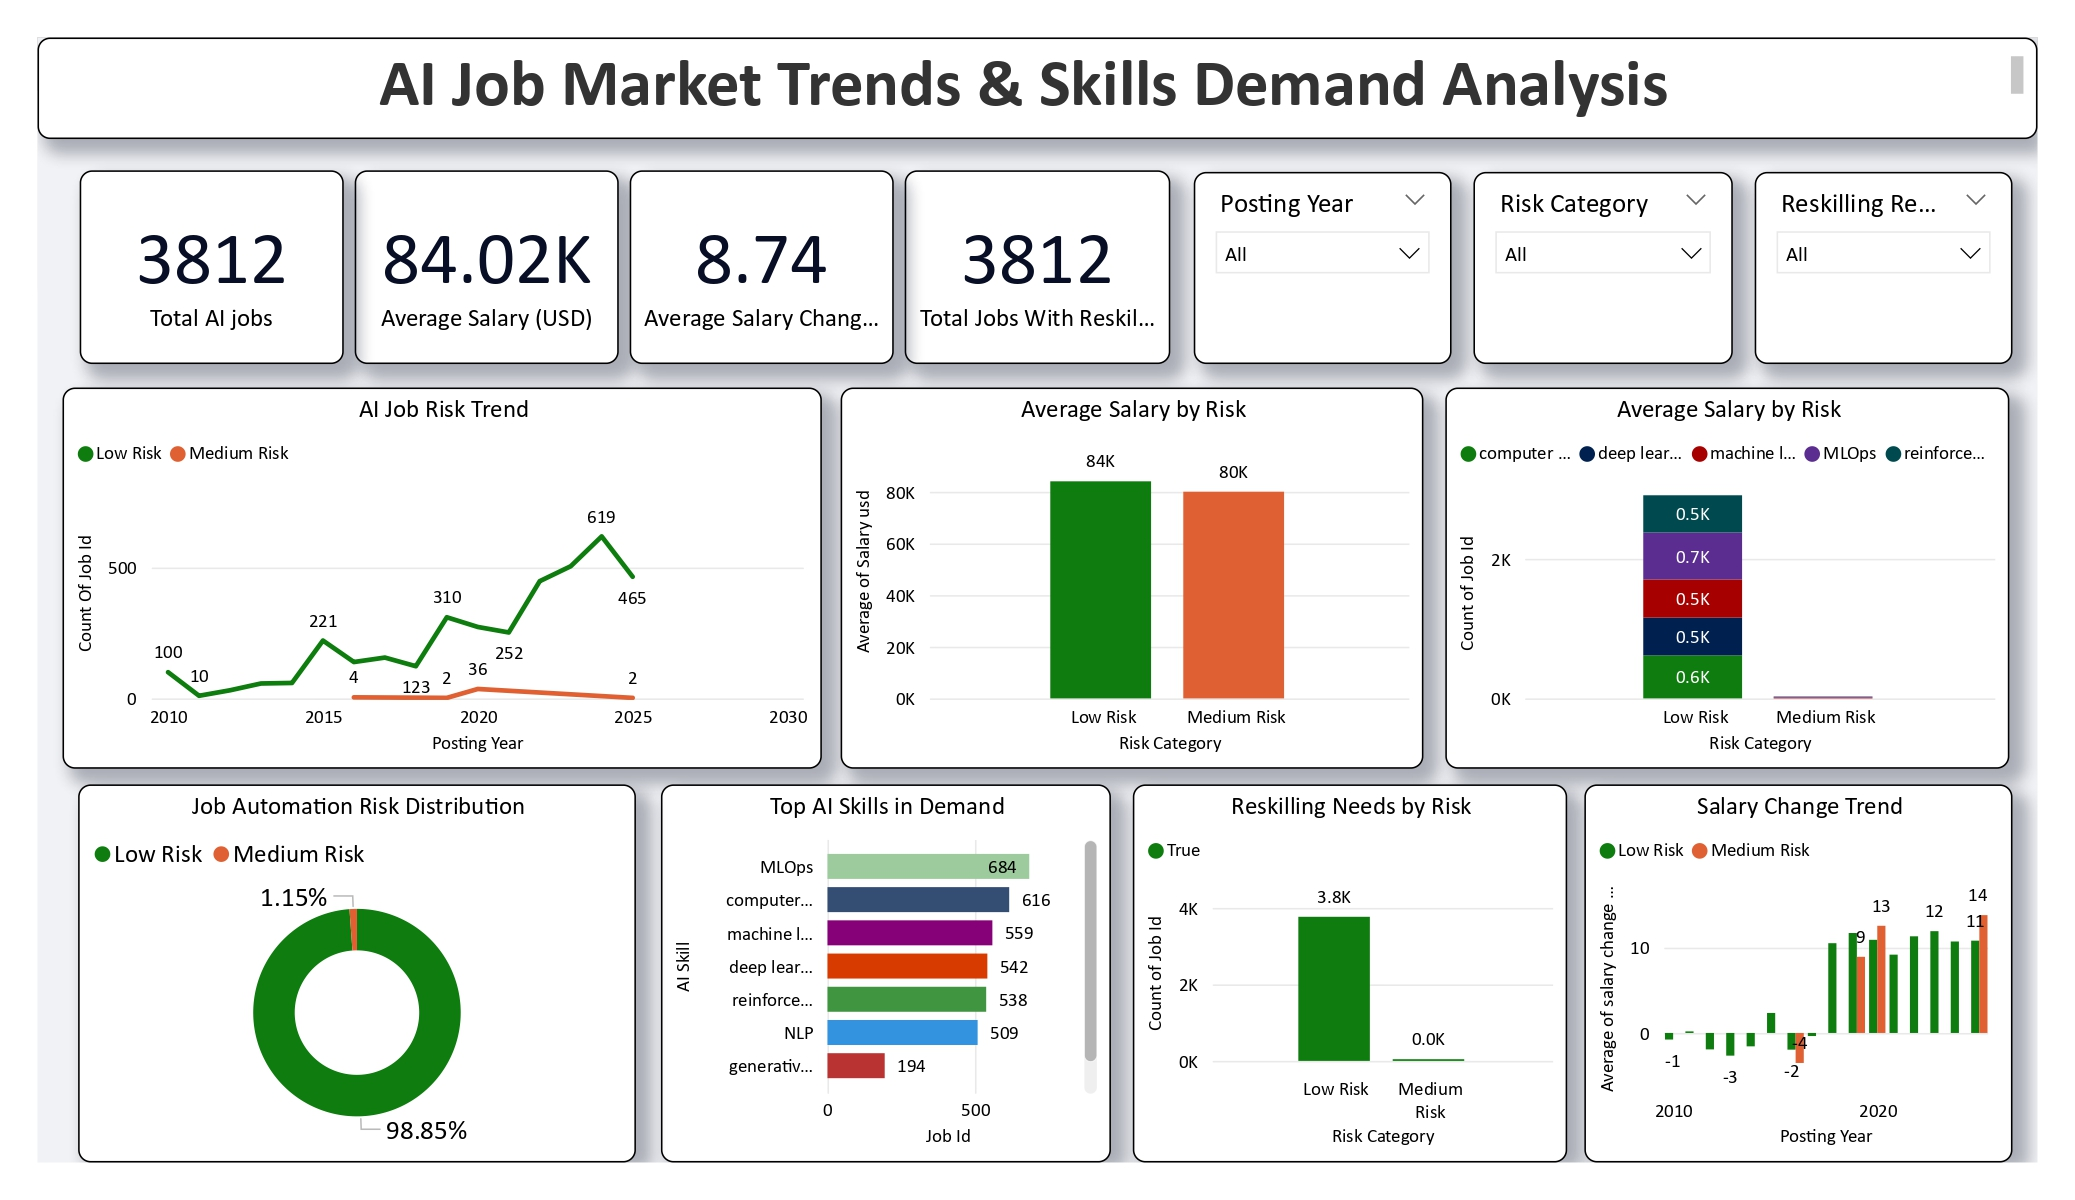

Layout of this report page (visuals, bound fields, positions):
{"tool":"powerbi","page":{"name":"Page 1","canvas":[1280,720],"ordinal":0},"visuals":[{"type":"textbox","box":[0,0,1279.6,65.5],"z":0},{"type":"card","fields":{"Values":["ai_jobs_clean sql.Reskilling jobs"]},"box":[554.9,85.4,169.9,123.1],"z":1000},{"type":"card","fields":{"Values":["Avg(ai_jobs_clean sql.salary_usd)"]},"box":[203,85.4,169.4,123.8],"z":2000},{"type":"card","fields":{"Values":["CountNonNull(ai_jobs_clean sql.reskilling_required)"]},"box":[27,85.4,169.4,123.8],"z":3000},{"type":"card","fields":{"Values":["Avg(ai_jobs_clean sql.salary_change_vs_prev_year_percent)"]},"box":[378.9,85.4,169.4,123.8],"z":4000},{"type":"slicer","fields":{"Values":["ai_jobs_clean sql.posting_year"]},"box":[740.3,85.7,165,123.1],"z":5000},{"type":"slicer","fields":{"Values":["ai_jobs_clean sql.risk_category"]},"box":[919.5,85.7,165.2,123.1],"z":6000},{"type":"slicer","fields":{"Values":["ai_jobs_clean sql.reskilling_required"]},"box":[1098.8,85.7,165,123.1],"z":7000},{"type":"lineChart","title":"AI Job Risk Trend","fields":{"Category":["ai_jobs_clean sql.posting_year"],"Y":["CountNonNull(ai_jobs_clean sql.job_id)"],"Series":["ai_jobs_clean sql.risk_category"]},"box":[15.6,224.4,486.3,243.1],"z":8000},{"type":"columnChart","title":"Average Salary by Risk","fields":{"Category":["ai_jobs_clean sql.risk_category"],"Y":["Avg(ai_jobs_clean sql.salary_usd)"]},"box":[514.3,224.4,372.5,243.1],"z":9000},{"type":"barChart","title":"Top AI Skills in Demand","fields":{"Y":["CountNonNull(ai_jobs_clean sql.job_id)"],"Category":["ai_jobs_clean sql.ai_skills"]},"box":[399,478.5,288.3,241.6],"z":10000},{"type":"columnChart","title":"Average Salary by Risk","fields":{"Category":["ai_jobs_clean sql.risk_category"],"Y":["CountNonNull(ai_jobs_clean sql.job_id)"],"Series":["ai_jobs_clean sql.ai_skills"]},"box":[900.9,224.4,361.6,243.1],"z":11000},{"type":"donutChart","title":"Job Automation Risk Distribution","fields":{"Category":["ai_jobs_clean sql.risk_category"],"Y":["CountNonNull(ai_jobs_clean sql.job_id)"]},"box":[26.5,478.5,356.9,241.6],"z":12000},{"type":"columnChart","title":"Reskilling Needs by Risk","fields":{"Category":["ai_jobs_clean sql.risk_category"],"Series":["ai_jobs_clean sql.reskilling_required"],"Y":["CountNonNull(ai_jobs_clean sql.job_id)"]},"box":[701.4,478.5,277.4,241.6],"z":13000},{"type":"clusteredColumnChart","title":"Salary Change Trend","fields":{"Category":["ai_jobs_clean sql.posting_year"],"Y":["Avg(ai_jobs_clean sql.salary_change_vs_prev_year_percent)"],"Series":["ai_jobs_clean sql.risk_category"]},"box":[989.7,478.5,274.3,241.6],"z":14000}]}

Visuals, with their boxes in screenshot pixels (x1, y1, x2, y2):
textbox: left=49, top=38, right=2022, bottom=139
card - ai_jobs_clean sql.Reskilling jobs: left=904, top=170, right=1166, bottom=359
card - Avg(ai_jobs_clean sql.salary_usd): left=362, top=170, right=623, bottom=360
card - CountNonNull(ai_jobs_clean sql.reskilling_required): left=90, top=170, right=351, bottom=360
card - Avg(ai_jobs_clean sql.salary_change_vs_prev_year_percent): left=633, top=170, right=894, bottom=360
slicer - ai_jobs_clean sql.posting_year: left=1190, top=170, right=1445, bottom=360
slicer - ai_jobs_clean sql.risk_category: left=1467, top=170, right=1721, bottom=360
slicer - ai_jobs_clean sql.reskilling_required: left=1743, top=170, right=1997, bottom=360
"AI Job Risk Trend" lineChart: left=73, top=384, right=823, bottom=759
"Average Salary by Risk" columnChart: left=842, top=384, right=1416, bottom=759
"Top AI Skills in Demand" barChart: left=664, top=776, right=1108, bottom=1148
"Average Salary by Risk" columnChart: left=1438, top=384, right=1995, bottom=759
"Job Automation Risk Distribution" donutChart: left=89, top=776, right=640, bottom=1148
"Reskilling Needs by Risk" columnChart: left=1130, top=776, right=1558, bottom=1148
"Salary Change Trend" clusteredColumnChart: left=1575, top=776, right=1998, bottom=1148
